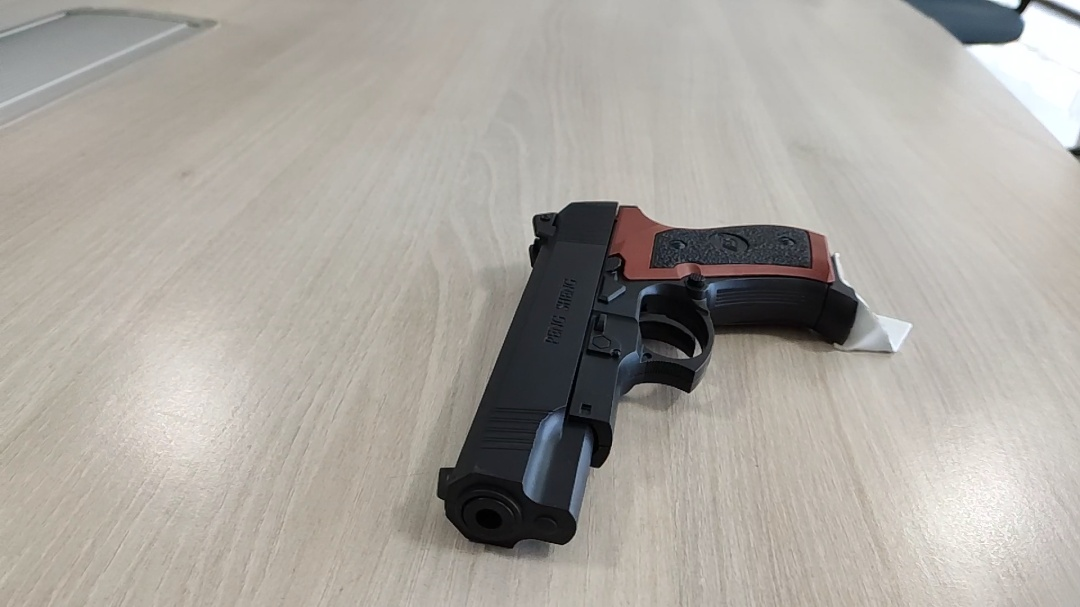gun: (434, 198, 860, 548)
